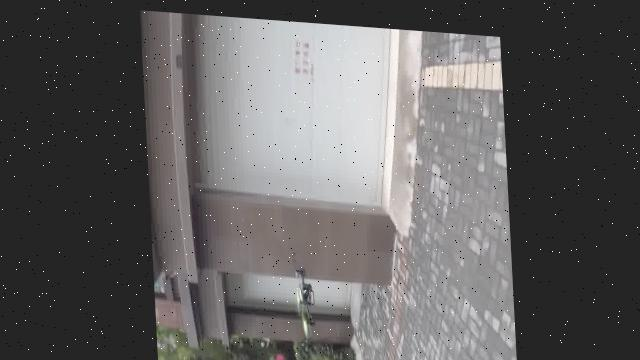drone: (284, 238, 318, 333)
